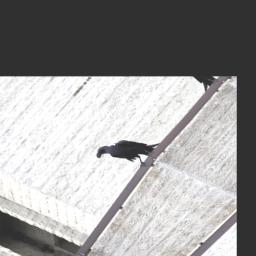Crow: (91, 124, 170, 178)
